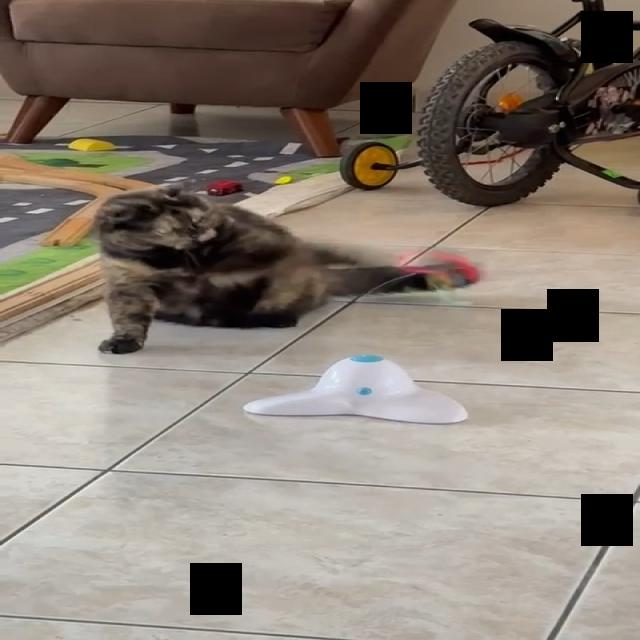authorized: (92, 185, 467, 355)
